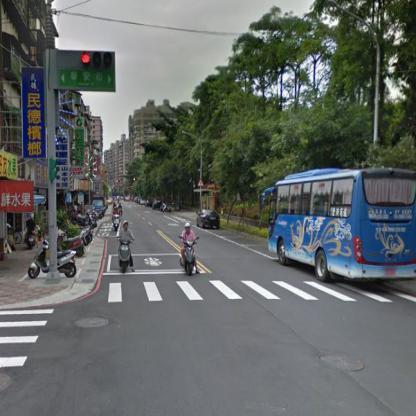Red Light: (81, 50, 115, 68)
